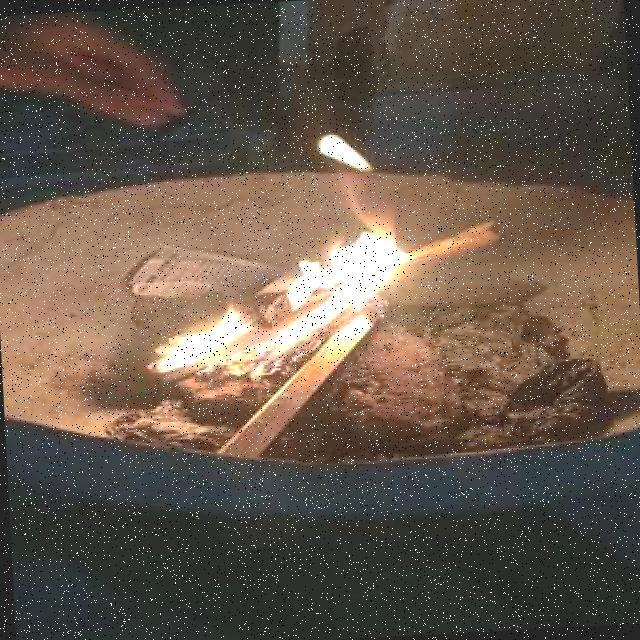Fire: (94, 121, 435, 390)
